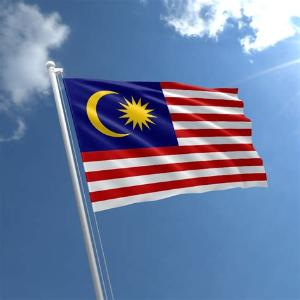Malaysia: (58, 78, 270, 209)
